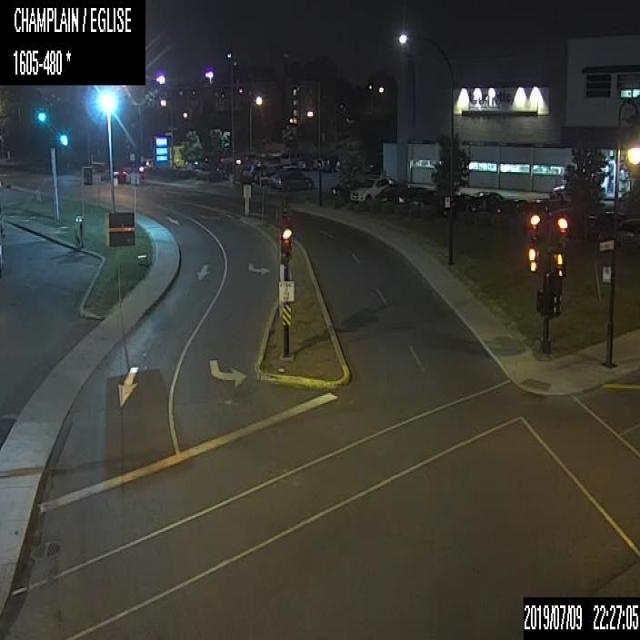vehicle: (349, 175, 394, 205), (269, 164, 314, 191), (588, 208, 624, 240), (552, 179, 604, 200), (517, 198, 552, 224), (466, 190, 502, 214), (438, 191, 470, 215), (414, 188, 444, 212), (331, 177, 362, 200), (375, 182, 409, 202), (617, 217, 639, 246), (254, 162, 282, 184), (496, 198, 526, 218), (547, 200, 571, 225), (398, 186, 427, 206), (219, 154, 241, 177), (236, 162, 258, 182), (280, 148, 304, 165), (122, 165, 144, 182), (100, 166, 125, 180), (297, 155, 315, 168), (139, 157, 152, 170), (325, 158, 334, 172), (335, 159, 341, 172)
